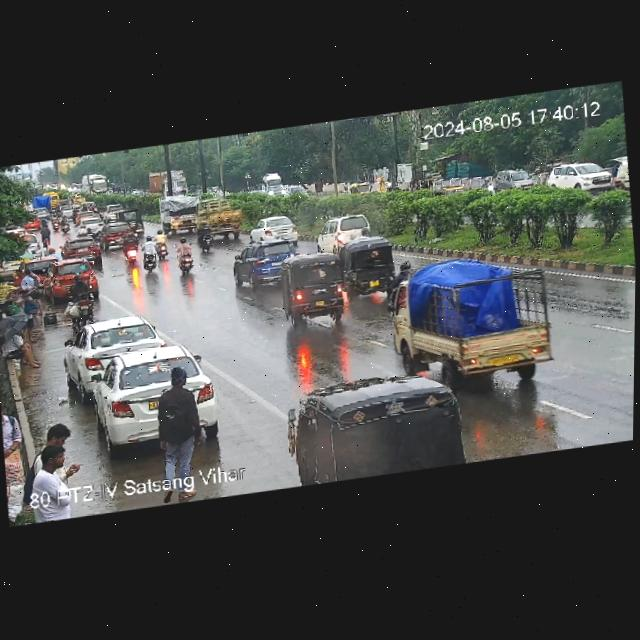bus: (82, 172, 108, 196)
car: (283, 370, 475, 488), (70, 340, 224, 456), (68, 313, 164, 383), (283, 256, 352, 325), (233, 236, 309, 290), (343, 238, 402, 298), (543, 156, 621, 196), (242, 214, 306, 246), (319, 213, 374, 249), (48, 258, 99, 294), (57, 236, 102, 262), (496, 166, 536, 192), (102, 221, 138, 248), (346, 179, 381, 196), (76, 215, 107, 233), (117, 207, 145, 225), (103, 204, 116, 221), (75, 209, 91, 222), (61, 204, 72, 218), (97, 201, 104, 217)
motorcycle: (67, 271, 95, 323), (136, 234, 165, 274), (171, 237, 201, 275), (143, 228, 172, 264), (196, 222, 222, 254), (122, 229, 139, 263), (51, 212, 70, 234), (395, 260, 413, 278), (40, 225, 51, 249), (482, 175, 494, 193), (83, 226, 96, 238), (82, 203, 97, 213), (71, 207, 77, 223)
person: (149, 364, 206, 480), (30, 447, 83, 496), (0, 323, 44, 372), (18, 266, 46, 299), (42, 419, 73, 447), (18, 288, 37, 328)
truck: (393, 233, 559, 393), (175, 194, 247, 240), (157, 190, 194, 230), (147, 167, 189, 199)
